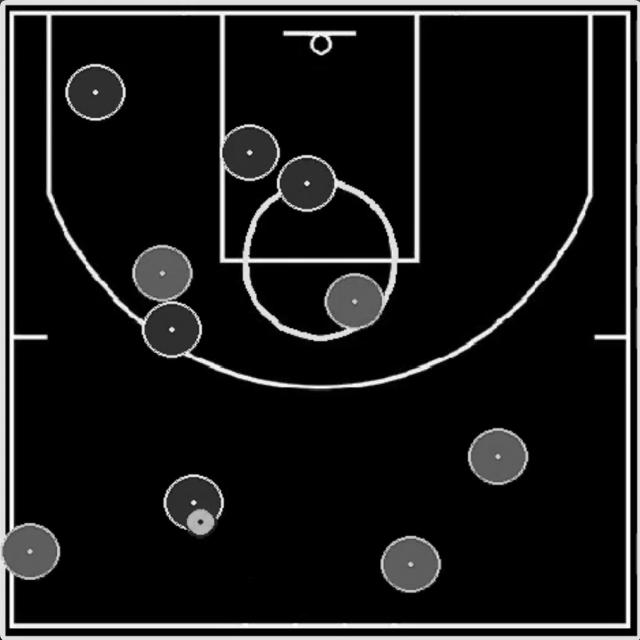Basketball: (186, 509, 216, 536)
Team_A: (65, 64, 125, 121), (142, 301, 202, 358), (277, 155, 337, 211), (164, 474, 223, 530), (221, 125, 279, 181)
Team_B: (325, 272, 384, 331), (0, 522, 60, 580), (133, 245, 193, 301), (468, 429, 528, 485), (380, 536, 440, 592)
